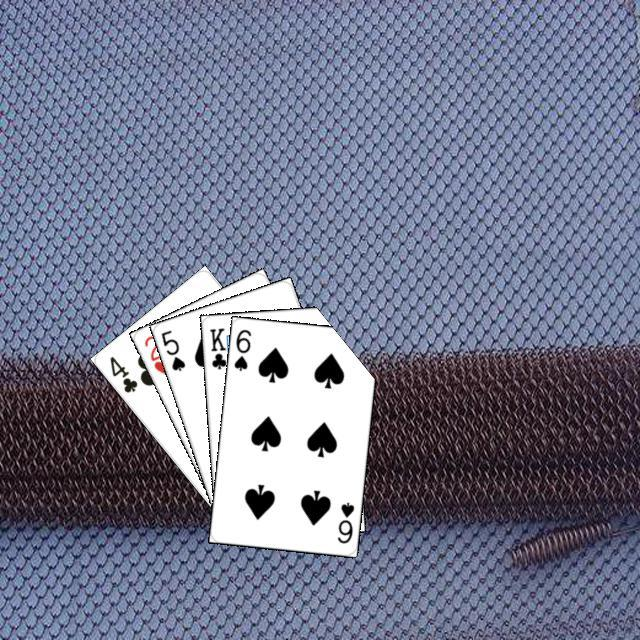2h: (139, 330, 171, 376)
4c: (105, 351, 139, 394)
5s: (156, 325, 187, 373)
6s: (229, 324, 253, 372), (332, 497, 356, 545)
Kc: (204, 323, 232, 375)
